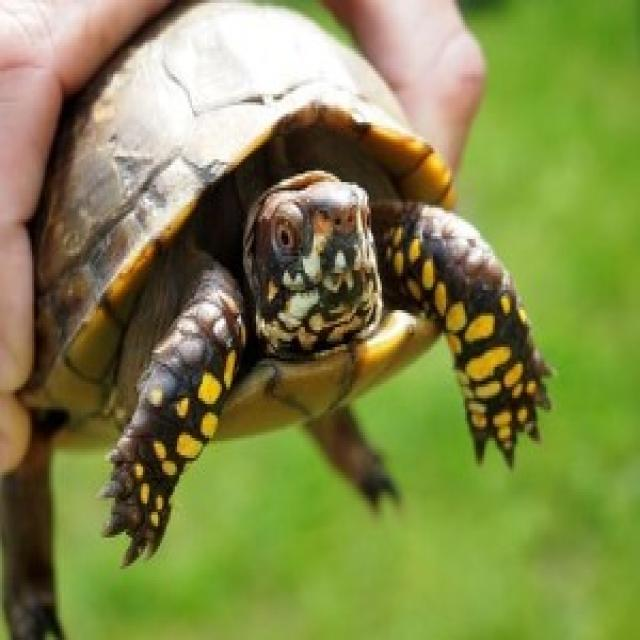Sea turtle: (11, 1, 568, 640)
